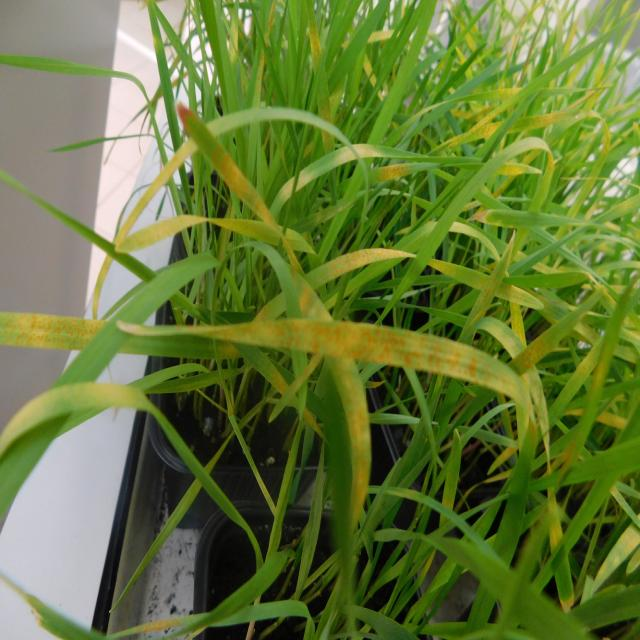wheat-yellowrust: (184, 321, 540, 421), (300, 279, 372, 525), (117, 142, 207, 253), (0, 313, 106, 350), (326, 249, 416, 278), (210, 141, 249, 203), (212, 219, 282, 246), (454, 108, 496, 143), (496, 281, 538, 306), (474, 275, 497, 317), (483, 327, 516, 356), (520, 339, 545, 368), (379, 164, 407, 184), (252, 201, 276, 224), (311, 29, 325, 66), (512, 306, 526, 341), (532, 113, 561, 129), (266, 2, 278, 40), (337, 149, 359, 169), (355, 144, 381, 160), (279, 177, 294, 201), (297, 170, 313, 192), (320, 103, 333, 122), (324, 132, 334, 148)
